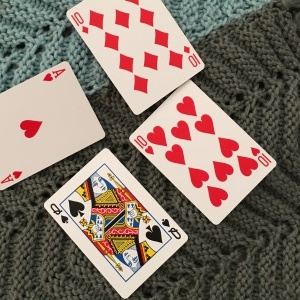card: (40, 151, 189, 299), (129, 78, 278, 222)
